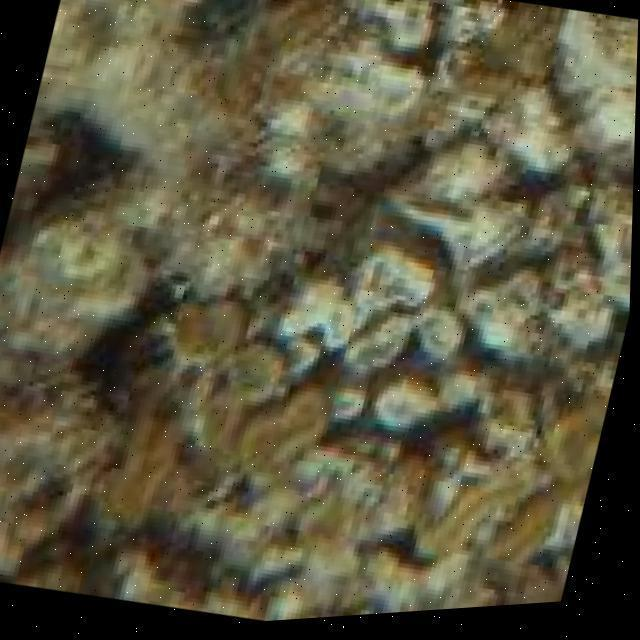Bleached Coral: (284, 50, 640, 500)
